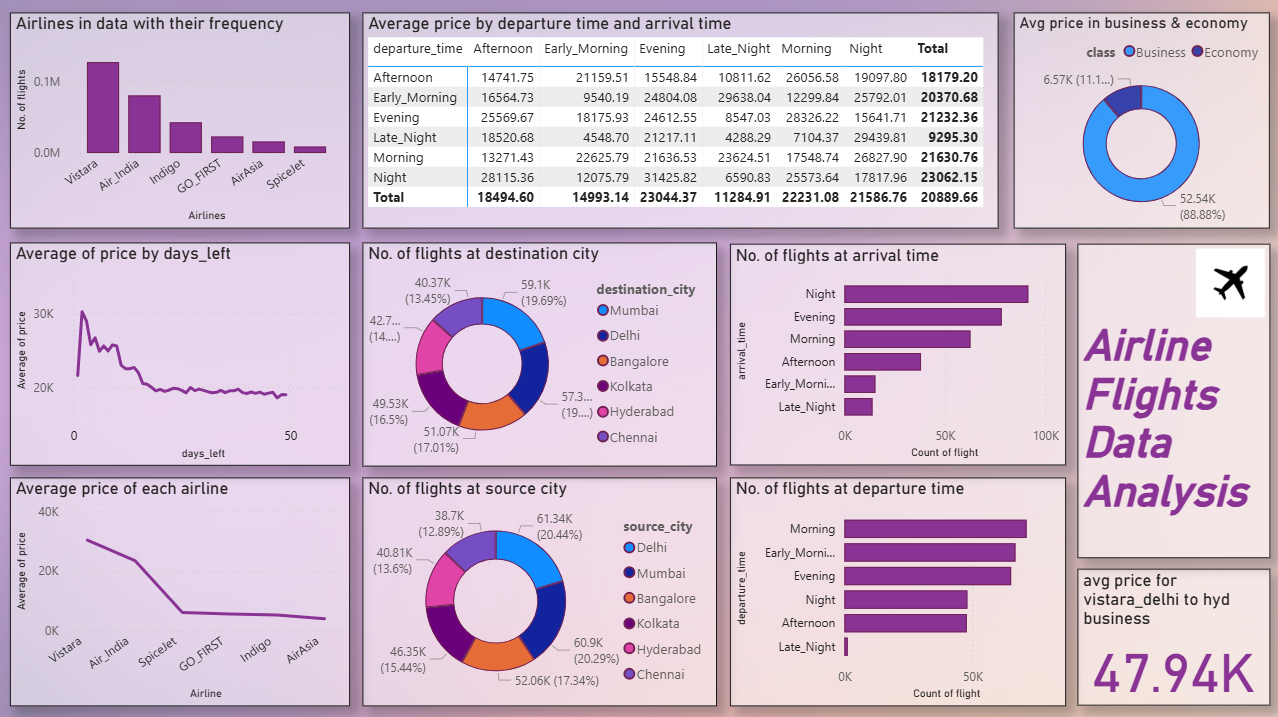

The dashboard page shown, as its layout file describes it:
{"tool":"powerbi","page":{"name":"airline report","canvas":[1280,720],"ordinal":0},"visuals":[{"type":"columnChart","title":"Airlines in data with their frequency","fields":{"Category":["airlines_flights_data.airline"],"Y":["CountNonNull(airlines_flights_data.index)"]},"box":[10,12.9,340,215.7],"z":0},{"type":"clusteredBarChart","title":"No. of flights at departure time","fields":{"Category":["airlines_flights_data.departure_time"],"Y":["CountNonNull(airlines_flights_data.flight)"]},"box":[730,477.1,335.7,228.6],"z":1},{"type":"clusteredBarChart","title":"No. of flights at arrival time","fields":{"Category":["airlines_flights_data.arrival_time"],"Y":["CountNonNull(airlines_flights_data.flight)"]},"box":[730,244.3,335.7,221.4],"z":2},{"type":"donutChart","title":"No. of flights at source city","fields":{"Category":["airlines_flights_data.source_city"],"Y":["CountNonNull(airlines_flights_data.flight)"]},"box":[362.9,477.1,354.3,228.6],"z":3},{"type":"donutChart","title":"No. of flights at destination city","fields":{"Y":["CountNonNull(airlines_flights_data.flight)"],"Category":["airlines_flights_data.destination_city"]},"box":[362.9,242.9,354.3,224.3],"z":4},{"type":"lineChart","title":"Average price of each airline","fields":{"Category":["airlines_flights_data.airline"],"Y":["Avg(airlines_flights_data.price)"]},"box":[10,477.1,340,228.6],"z":5},{"type":"pivotTable","title":"Average price by departure time and arrival time","fields":{"Rows":["airlines_flights_data.departure_time"],"Columns":["airlines_flights_data.arrival_time"],"Values":["Avg(airlines_flights_data.price)"]},"box":[362.9,12.9,635.7,215.7],"z":6},{"type":"lineChart","fields":{"Category":["airlines_flights_data.days_left"],"Y":["Avg(airlines_flights_data.price)"]},"box":[10,242.9,340,222.9],"z":7},{"type":"pieChart","title":"Avg price in business & economy","fields":{"Category":["airlines_flights_data.class"],"Y":["Avg(airlines_flights_data.price)"]},"box":[1014.3,12.9,255.7,215.7],"z":8},{"type":"card","title":"avg price for vistara_delhi to hyd business","fields":{"Values":["airlines_flights_data.AvgPrice_Vistara_Delhi_Hyd_Business"]},"box":[1077.1,568.6,192.9,137.1],"z":9},{"type":"textbox","box":[1077.1,244.3,192.9,314.3],"z":10},{"type":"image","box":[1191.4,244.3,78.6,78.6],"z":11}]}

Visuals, with their boxes in screenshot pixels (x1, y1, x2, y2), scaled from the page's 1280x720 canvas onto the 1278x717 screenshot:
"Airlines in data with their frequency" columnChart: BBox(10, 13, 349, 228)
"No. of flights at departure time" clusteredBarChart: BBox(729, 475, 1064, 703)
"No. of flights at arrival time" clusteredBarChart: BBox(729, 243, 1064, 464)
"No. of flights at source city" donutChart: BBox(362, 475, 716, 703)
"No. of flights at destination city" donutChart: BBox(362, 242, 716, 465)
"Average price of each airline" lineChart: BBox(10, 475, 349, 703)
"Average price by departure time and arrival time" pivotTable: BBox(362, 13, 997, 228)
lineChart - airlines_flights_data.days_left x Avg(airlines_flights_data.price): BBox(10, 242, 349, 464)
"Avg price in business & economy" pieChart: BBox(1013, 13, 1268, 228)
"avg price for vistara_delhi to hyd business" card: BBox(1075, 566, 1268, 703)
textbox: BBox(1075, 243, 1268, 556)
image: BBox(1190, 243, 1268, 322)
